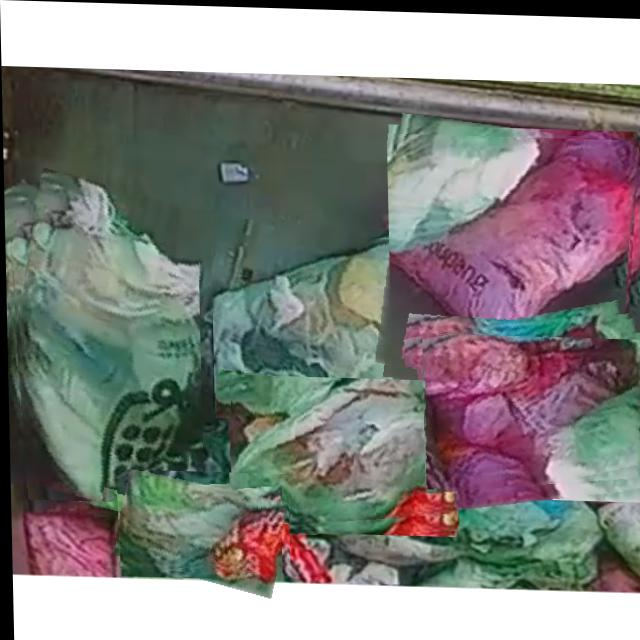general_trashbag: (15, 173, 198, 500), (212, 237, 529, 421), (232, 378, 452, 523), (117, 470, 286, 569)
other_trashbag: (388, 135, 638, 363), (422, 332, 640, 485)
